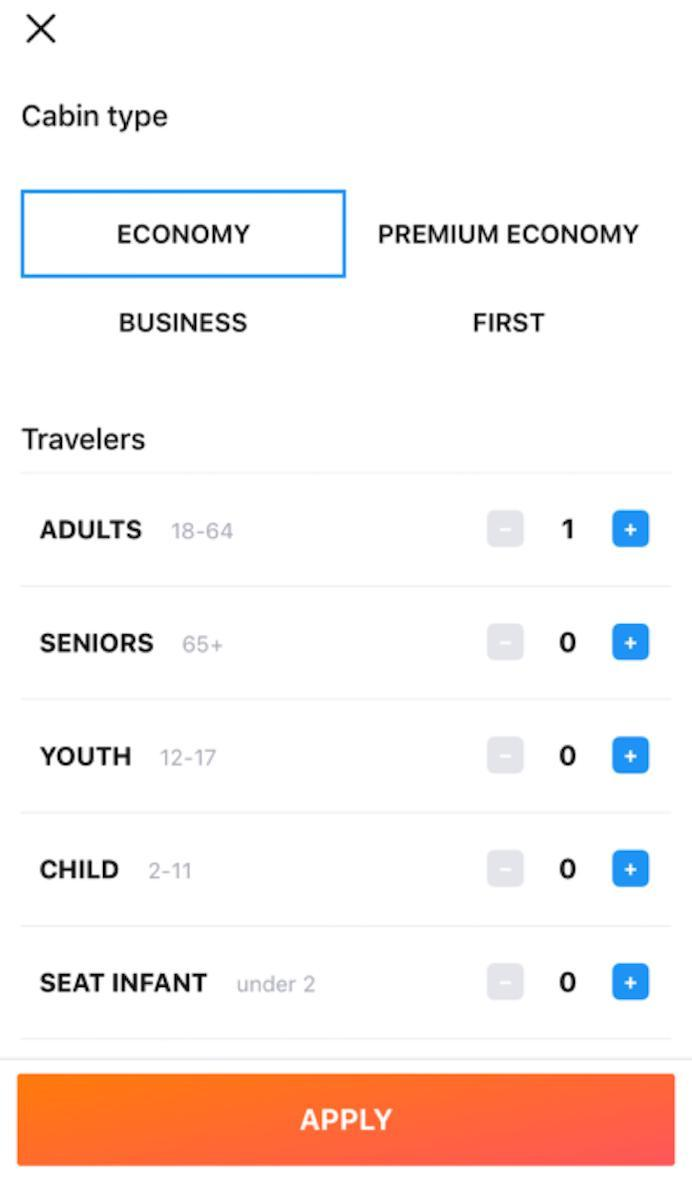button: (17, 1070, 683, 1179), (14, 1066, 682, 1174), (21, 193, 347, 275)
icon: (608, 728, 654, 777), (609, 844, 654, 893), (609, 620, 652, 666), (608, 960, 654, 1002), (486, 847, 525, 891), (611, 508, 651, 549), (486, 511, 526, 549), (489, 736, 525, 778), (489, 963, 525, 1005), (488, 623, 524, 662)
label: (39, 962, 326, 1007), (34, 506, 243, 551), (34, 625, 227, 673), (31, 737, 227, 780), (41, 850, 196, 893), (547, 506, 583, 549), (554, 961, 582, 1004), (552, 733, 580, 773), (554, 848, 580, 882), (556, 627, 579, 659)
